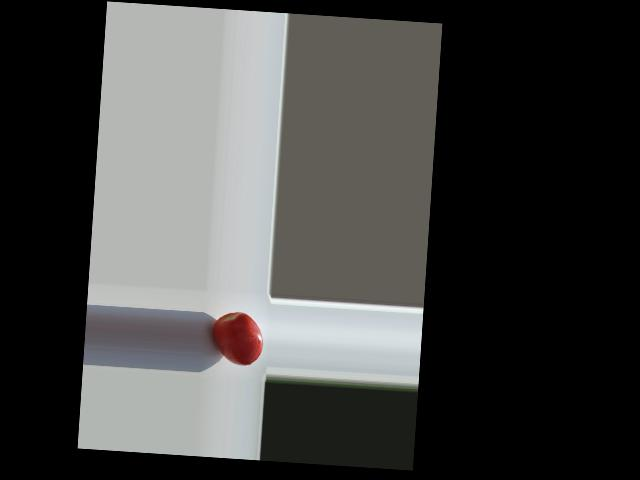tomato: (211, 310, 264, 366)
